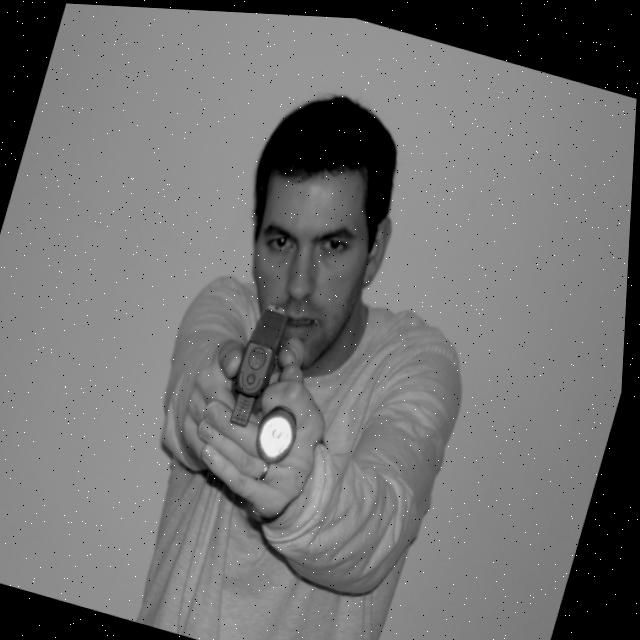pistol: (225, 293, 298, 433)
